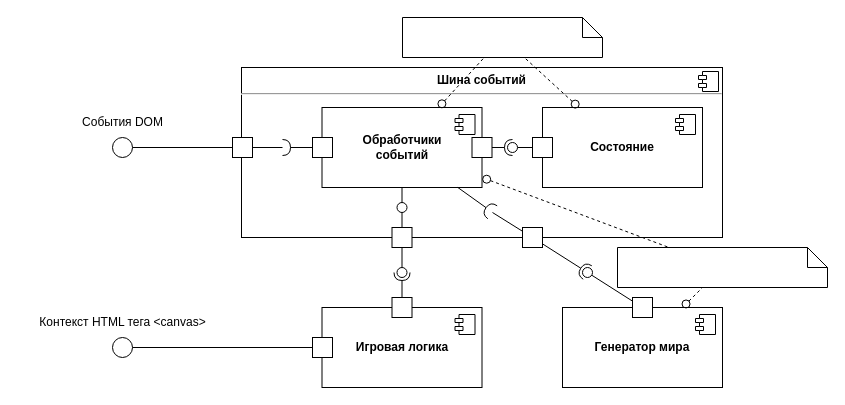
Some shapes in this 845 by 405 pixel diagram are drawn without their labels. Each missing label, with the centre of its shape:
Создаёт объекты и вызывает: [722,267]
Создаёт объекты, получает и изменяет значения полей: [502,37]
